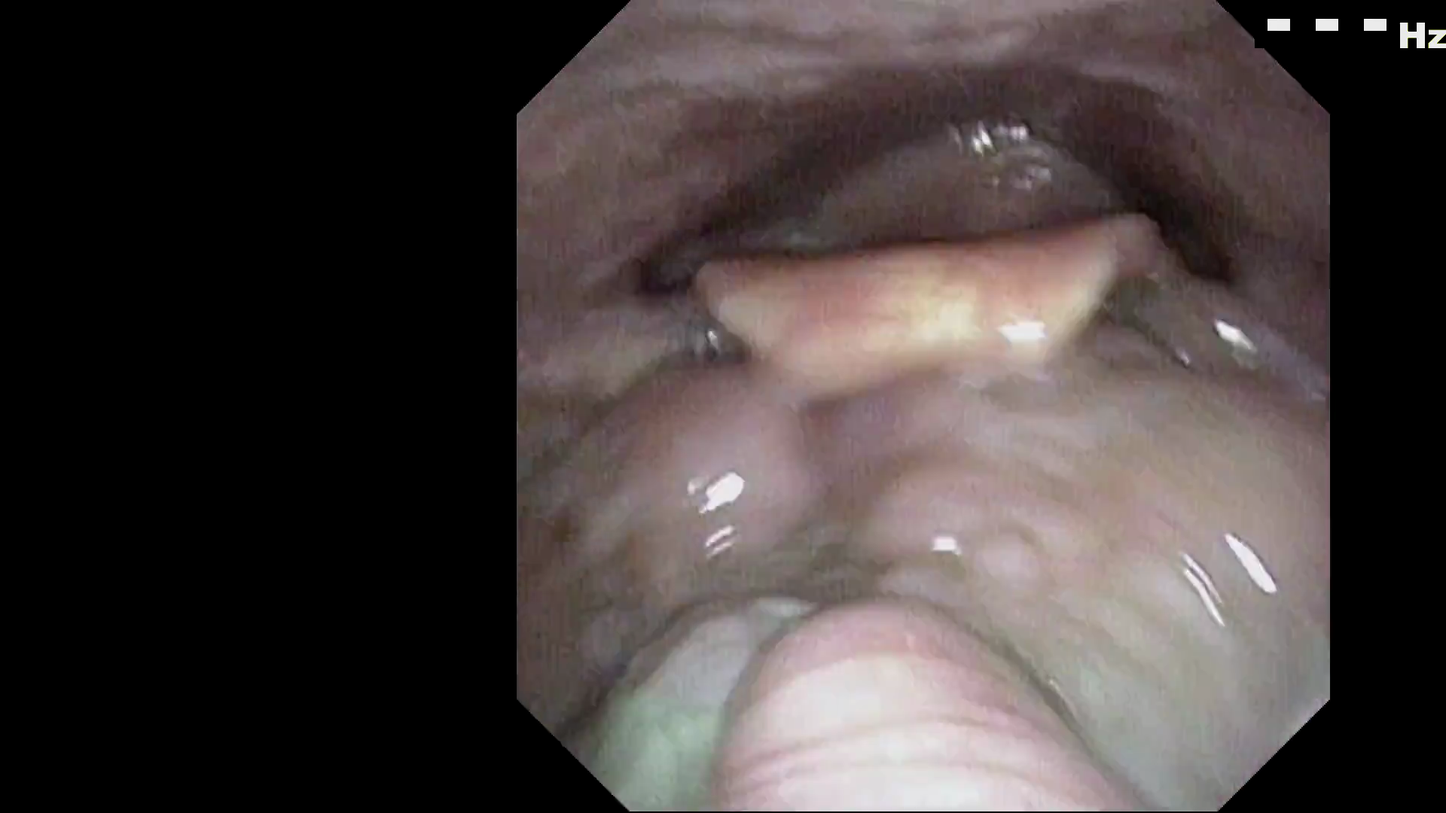epiglottis: (640, 207, 1220, 387)
